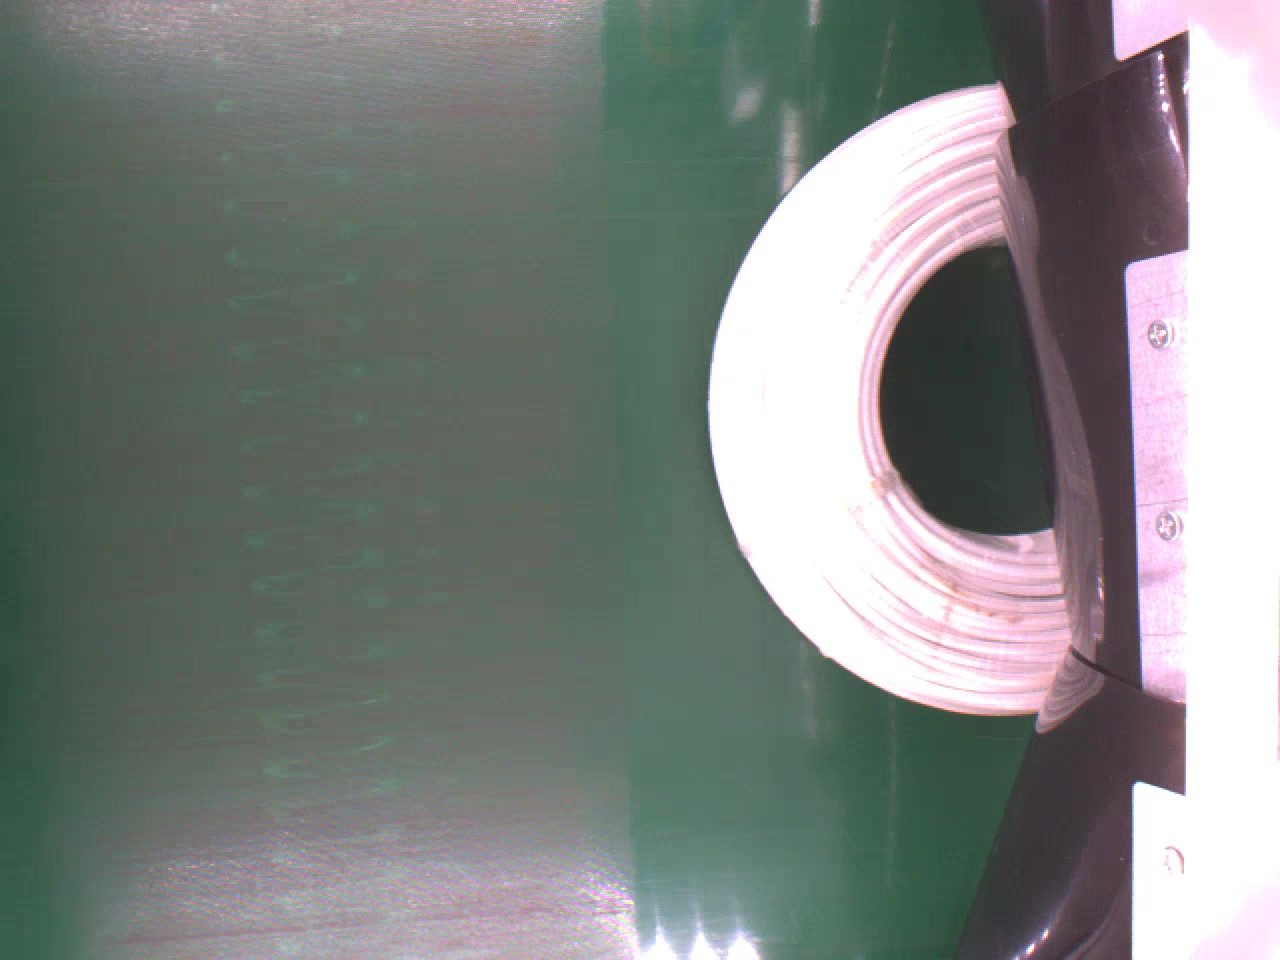white: (698, 76, 1077, 723)
